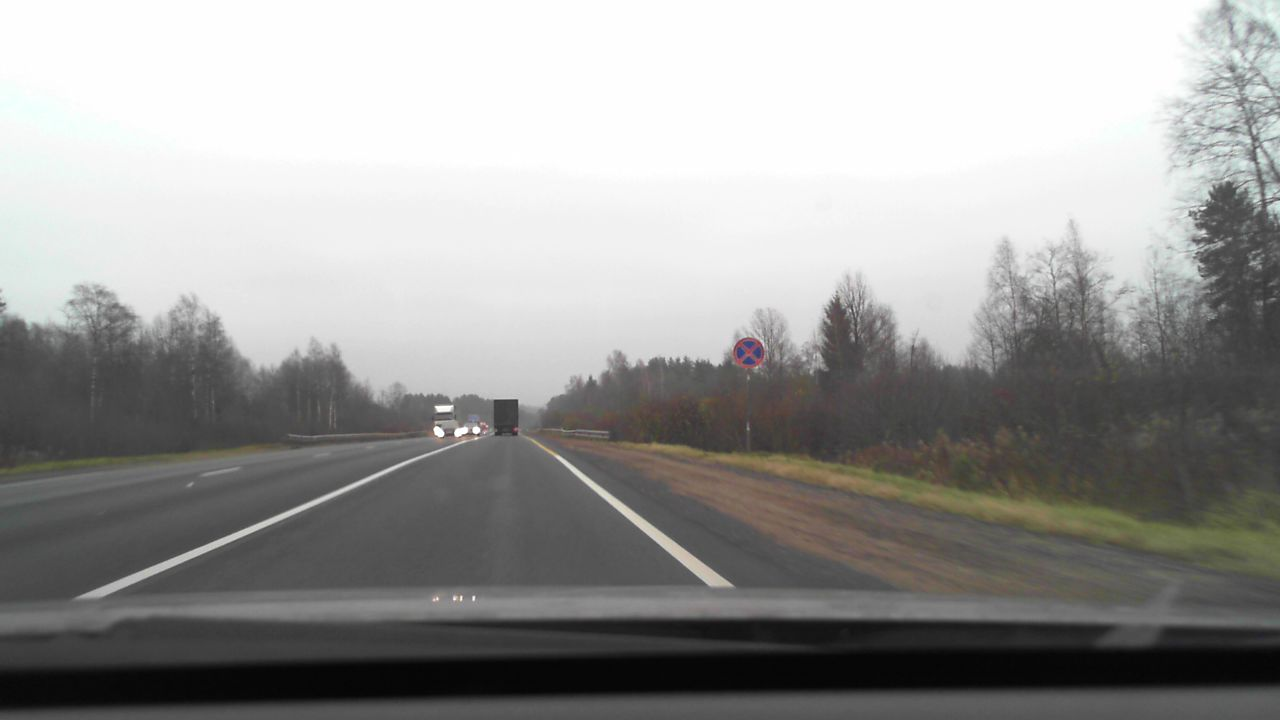No Parking: (733, 337, 764, 368)
